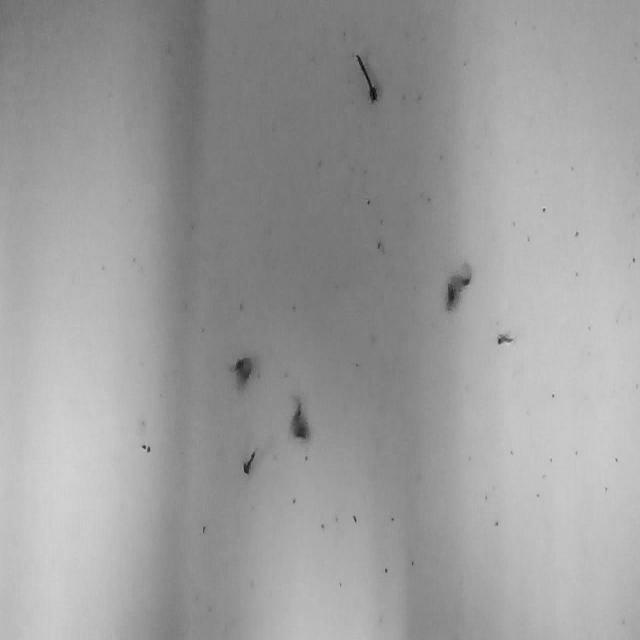larvas: (446, 259, 472, 313), (354, 50, 378, 105), (291, 402, 309, 440), (232, 356, 253, 388), (242, 446, 258, 476), (496, 332, 514, 348)
